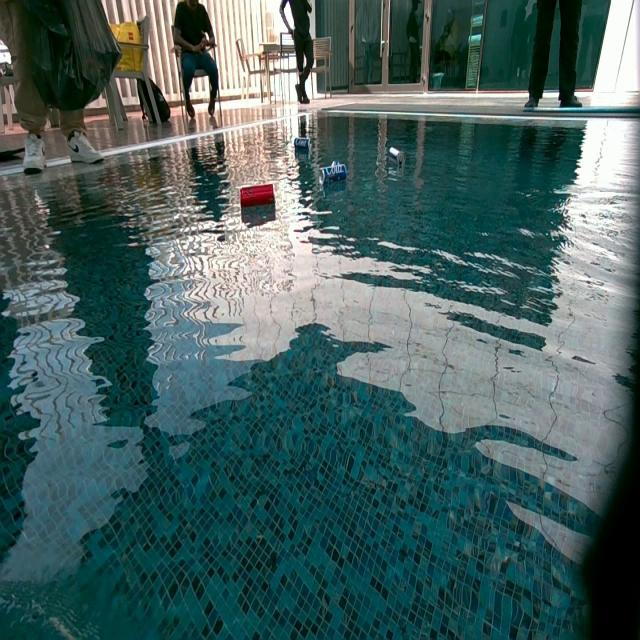Cans: (240, 187, 272, 210), (318, 162, 347, 186), (386, 145, 407, 174), (294, 136, 310, 152)
